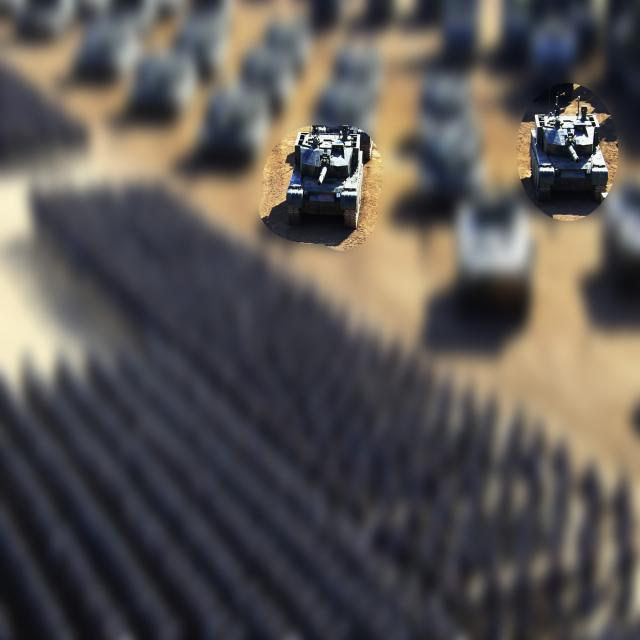tank: (518, 82, 618, 220), (285, 126, 377, 233)
